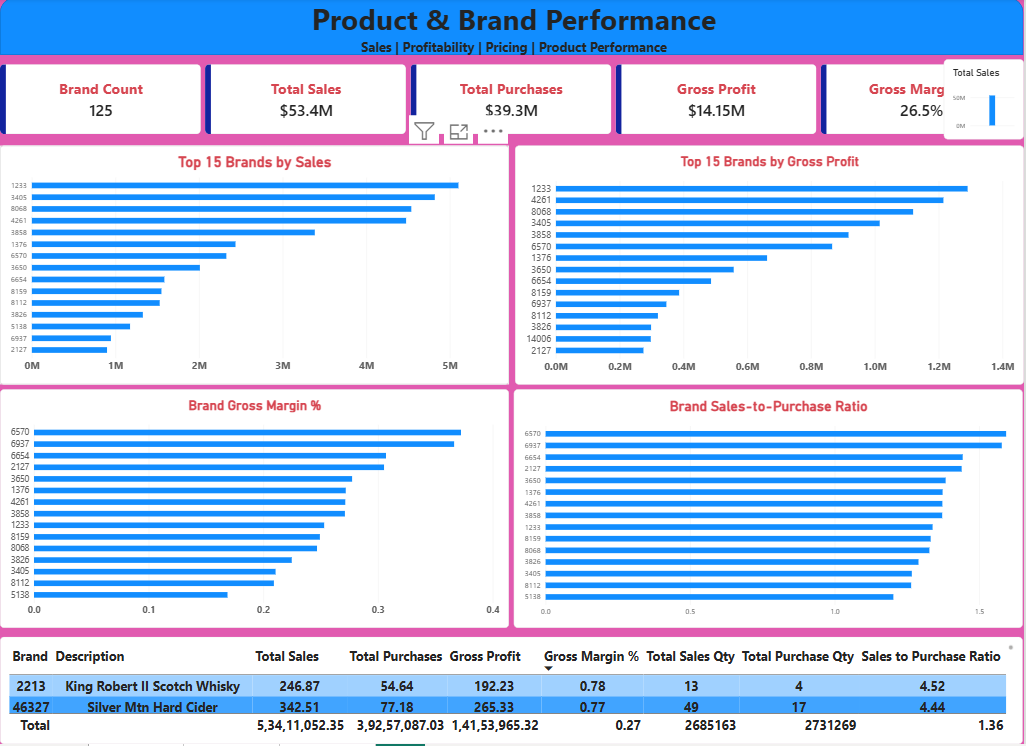

What the dashboard file says about the page in this screenshot:
{"tool":"powerbi","page":{"name":"Page 3","canvas":[1920,1400],"ordinal":2},"visuals":[{"type":"shape","box":[0,0,1920.4,107],"z":0},{"type":"textbox","box":[10.3,0,1910.1,107],"z":1},{"type":"cardVisual","fields":{"Data":["FactVendorSales.Brand Count","FactVendorSales.Total Sales","FactVendorSales.Total Purchases","FactVendorSales.Gross Profit","FactVendorSales.Gross Margin %"]},"box":[0,123.5,1920.4,131.7],"z":2},{"type":"clusteredBarChart","title":"Top 15 Brands by Sales","fields":{"Category":["DimProduct.Brand"],"Y":["FactVendorSales.Total Sales"]},"box":[0,275.8,955,448.7],"z":3},{"type":"clusteredBarChart","title":"Top 15 Brands by Gross Profit","fields":{"Category":["DimProduct.Brand"],"Y":["FactVendorSales.Gross Profit"]},"box":[965.4,275.8,955.1,448.7],"z":4},{"type":"clusteredBarChart","title":"Brand Gross Margin %","fields":{"Category":["DimProduct.Brand"],"Y":["FactVendorSales.Gross Margin %"]},"box":[0,735,955,448],"z":5},{"type":"clusteredBarChart","title":"Brand Sales-to-Purchase Ratio","fields":{"Category":["DimProduct.Brand"],"Y":["FactVendorSales.Sales to Purchase Ratio"]},"box":[965,735,955,448],"z":6},{"type":"clusteredColumnChart","fields":{"Y":["FactVendorSales.Total Sales"]},"box":[1770,114.4,150,150],"z":8},{"type":"tableEx","fields":{"Values":["FactVendorSales.Brand","FactVendorSales.Description","FactVendorSales.Total Sales","FactVendorSales.Total Purchases","FactVendorSales.Gross Profit","FactVendorSales.Gross Margin %","FactVendorSales.Total Sales Qty","FactVendorSales.Total Purchase Qty","FactVendorSales.Sales to Purchase Ratio"]},"box":[0,1198.7,1918.9,201.7],"z":9}]}

Visuals, with their boxes in screenshot pixels (x1, y1, x2, y2), scaled from the page's 1920x1400 canvas onto the 1026x746 screenshot:
shape: select_region(0, 0, 1025, 57)
textbox: select_region(6, 0, 1025, 57)
cardVisual - FactVendorSales.Brand Count x FactVendorSales.Total Sales: select_region(0, 66, 1025, 136)
"Top 15 Brands by Sales" clusteredBarChart: select_region(0, 147, 510, 386)
"Top 15 Brands by Gross Profit" clusteredBarChart: select_region(516, 147, 1025, 386)
"Brand Gross Margin %" clusteredBarChart: select_region(0, 392, 510, 630)
"Brand Sales-to-Purchase Ratio" clusteredBarChart: select_region(516, 392, 1025, 630)
clusteredColumnChart - FactVendorSales.Total Sales: select_region(946, 61, 1025, 141)
tableEx - FactVendorSales.Brand x FactVendorSales.Description: select_region(0, 639, 1025, 745)
